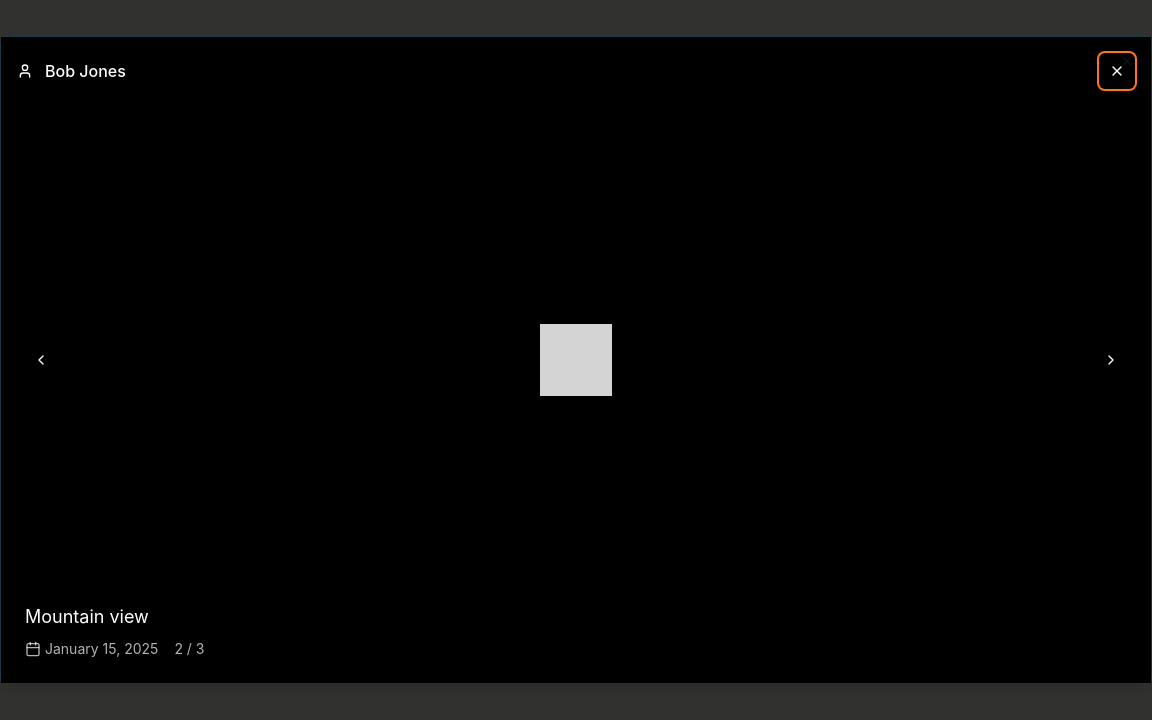
Scenario: PhotoLightbox › Navigation › should navigate to previous photo on arrow click
The width and height of the screenshot is (1152, 720).
What coordinates should you click on to do the following:
click the button named "Previous photo"
I would click on:
 (41, 360)
Its box is x1=17 y1=336 x2=65 y2=384.
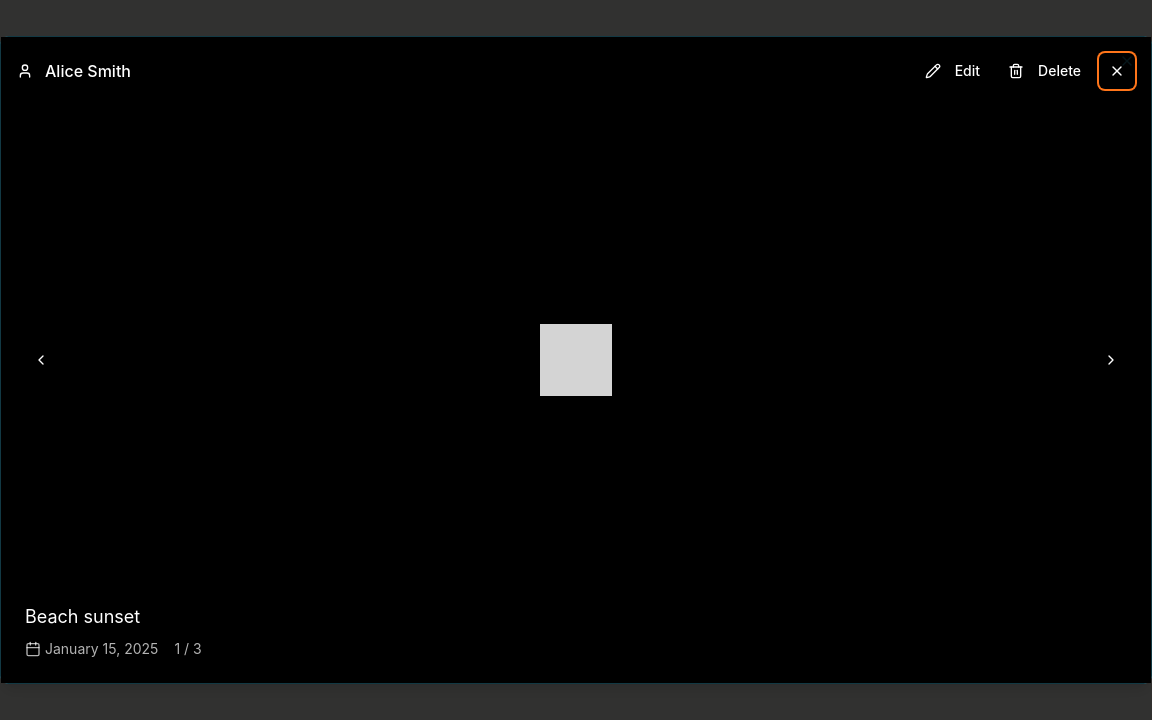
Expected: the text "Beach sunset" is shown, x1=25 y1=606 x2=140 y2=627
Expected: the text "1 / 3" is shown, x1=174 y1=639 x2=202 y2=659
